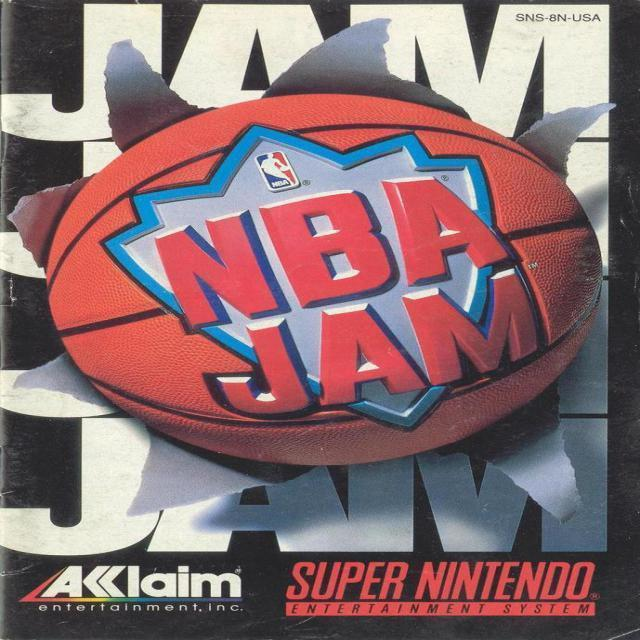ball: (38, 93, 608, 469)
